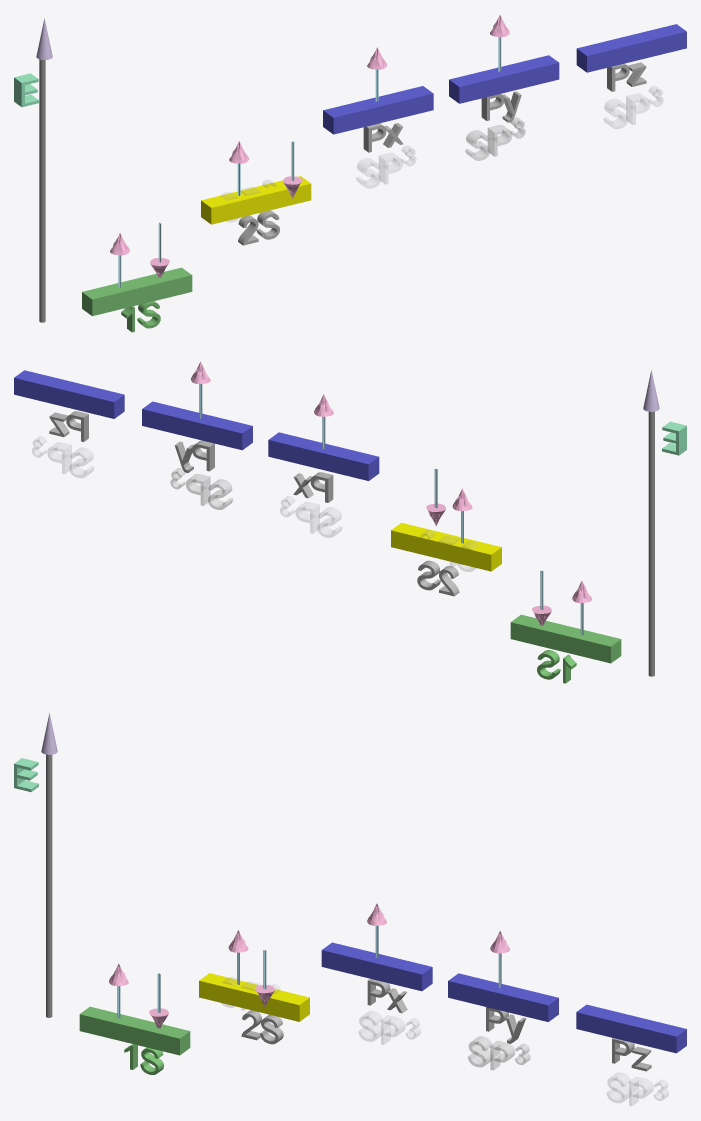
Rendered from ener_sp3.glb.
3 renders of one model, top to bottom at view 1: azimuth 30°, elevation 25°; view 2: azimuth 150°, elevation 25°; view 3: azimuth 330°, elevation 25°, orthographic.
Parts seen in each view (by area): view 1: VBox005, VBox003, VBox004, VBox001, VBox002, VCyl001, Text13-FACES001, Text10-FACES001, Text11-FACES001, Text15-FACES001, Text03-FACES001, Text06-FACES001 (+4 smaller); view 2: VBox003, VBox005, VBox004, VBox002, VBox001, VCyl001, Text13-FACES001, Text10-FACES001, Text11-FACES001, Text15-FACES001, Text03-FACES001, Text05-FACES001 (+4 smaller); view 3: VBox003, VBox005, VBox004, VBox001, VBox002, VCyl001, Text10-FACES001, Text11-FACES001, Text13-FACES001, Text15-FACES001, Text03-FACES001, Text04-FACES001 (+4 smaller).
Part boxes in pixels (x1,y1,x2,y2): VBox005: (576,24,686,72); VBox003: (323,86,433,134); VBox004: (449,55,559,103); VBox001: (82,267,192,316); VBox002: (201,176,311,224); VCyl001: (39,59,45,322); Text13-FACES001: (465,125,511,160); Text10-FACES001: (603,93,649,128); Text11-FACES001: (356,153,402,188); Text15-FACES001: (466,125,511,160); Text03-FACES001: (238,210,279,245); Text06-FACES001: (607,62,646,91); VBox003: (268,432,379,480); VBox005: (14,370,124,418); VBox004: (142,401,252,450); VBox002: (391,522,501,571); VBox001: (510,614,621,663); VCyl001: (648,411,654,676); Text13-FACES001: (186,474,232,509); Text10-FACES001: (47,442,94,477); Text11-FACES001: (295,502,342,537); Text15-FACES001: (186,474,232,509); Text03-FACES001: (417,560,459,596); Text05-FACES001: (174,440,214,472); VBox003: (321,942,432,991); VBox005: (576,1004,686,1053); VBox004: (448,973,558,1021); VBox001: (79,1006,190,1055); VBox002: (199,973,309,1021); VCyl001: (46,754,52,1017); Text10-FACES001: (607,1072,653,1105); Text11-FACES001: (358,1011,405,1044); Text13-FACES001: (468,1036,514,1069); Text15-FACES001: (468,1037,514,1069); Text03-FACES001: (241,1010,283,1044); Text04-FACES001: (367,978,407,1013).
Bounding box in the file's own units: 5.59 × 2.68 × 0.3816.
